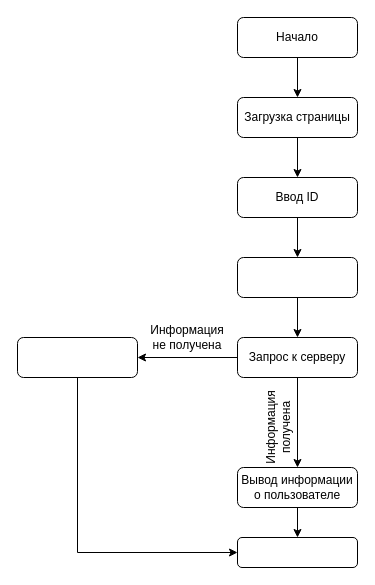
The diagram is 375 pixels wide and 585 high, and some of its shapes have lost their labels. Here are the shapes that lost their labels. From the top down, the box of each, then its label:
(236, 256, 358, 298): Нажатие кнопки "Показать инфу"
(16, 336, 138, 378): Вывод ошибки
(236, 536, 358, 568): Конец
